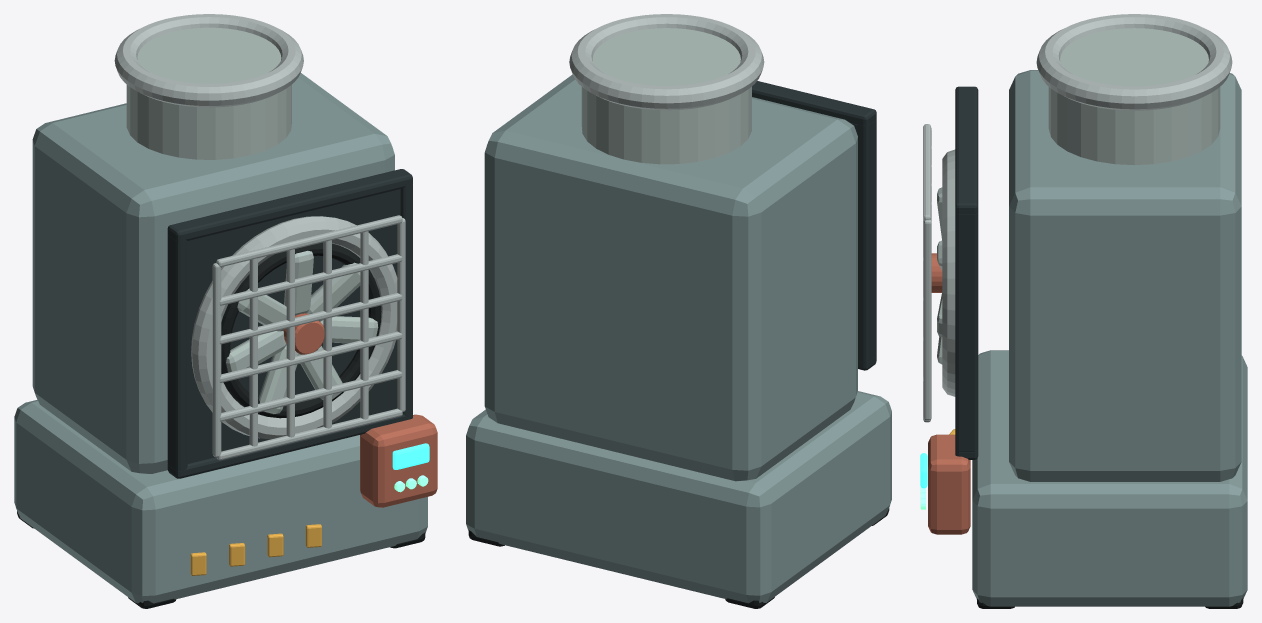
Rendered from Extracteur d urgence blindé.glb.
3 renders of one model, left to right at view 1: azimuth 30°, elevation 25°; view 2: azimuth 150°, elevation 25°; view 3: azimuth 270°, elevation 25°, orthographic. The views are drawn at different scales.
Parts seen in each view (by area): view 1: EXTRACTOR_Armored_Frame, EXTRACTOR_Base, EXTRACTOR_Exhaust_Stack, EXTRACTOR_Fan_Recess_Panel, EXTRACTOR_Internal_Fan_Outer_Ring, EXTRACTOR_Stack_Collar, EXTRACTOR_Control_Box, EXTRACTOR_Fan_Recess_Rail_Top, EXTRACTOR_Fan_Recess_Rail_Left, EXTRACTOR_Internal_Fan_Rubber_Seal, EXTRACTOR_Fan_Recess_Rail_Bottom, EXTRACTOR_Fan_Recess_Rail_Right (+21 smaller); view 2: EXTRACTOR_Armored_Frame, EXTRACTOR_Base, EXTRACTOR_Exhaust_Stack, EXTRACTOR_Stack_Collar, EXTRACTOR_Fan_Recess_Rail_Left, EXTRACTOR_Fan_Recess_Rail_Top; view 3: EXTRACTOR_Armored_Frame, EXTRACTOR_Base, EXTRACTOR_Exhaust_Stack, EXTRACTOR_Stack_Collar, EXTRACTOR_Fan_Recess_Rail_Right, EXTRACTOR_Control_Box, EXTRACTOR_Internal_Fan_Outer_Ring, EXTRACTOR_Fan_Recess_Rail_Top, EXTRACTOR_Guard_V_6, EXTRACTOR_Guard_H_6.
Boxes of the visible parts, x1=… form: EXTRACTOR_Armored_Frame: x1=32, y1=73, x2=394, y2=473; EXTRACTOR_Base: x1=14, y1=399, x2=427, y2=603; EXTRACTOR_Exhaust_Stack: x1=126, y1=27, x2=291, y2=159; EXTRACTOR_Fan_Recess_Panel: x1=187, y1=189, x2=400, y2=463; EXTRACTOR_Internal_Fan_Outer_Ring: x1=191, y1=216, x2=397, y2=439; EXTRACTOR_Stack_Collar: x1=114, y1=14, x2=303, y2=107; EXTRACTOR_Control_Box: x1=360, y1=414, x2=437, y2=507; EXTRACTOR_Fan_Recess_Rail_Top: x1=167, y1=169, x2=412, y2=241; EXTRACTOR_Fan_Recess_Rail_Left: x1=167, y1=234, x2=187, y2=470; EXTRACTOR_Internal_Fan_Rubber_Seal: x1=221, y1=242, x2=381, y2=418; EXTRACTOR_Fan_Recess_Rail_Bottom: x1=167, y1=414, x2=412, y2=478; EXTRACTOR_Fan_Recess_Rail_Right: x1=400, y1=184, x2=412, y2=415; EXTRACTOR_Armored_Frame: x1=484, y1=74, x2=857, y2=481; EXTRACTOR_Base: x1=466, y1=391, x2=891, y2=603; EXTRACTOR_Exhaust_Stack: x1=581, y1=28, x2=751, y2=164; EXTRACTOR_Stack_Collar: x1=569, y1=14, x2=764, y2=110; EXTRACTOR_Fan_Recess_Rail_Left: x1=857, y1=118, x2=876, y2=362; EXTRACTOR_Fan_Recess_Rail_Top: x1=752, y1=81, x2=876, y2=125; EXTRACTOR_Armored_Frame: x1=1009, y1=70, x2=1241, y2=481; EXTRACTOR_Base: x1=972, y1=350, x2=1247, y2=606; EXTRACTOR_Exhaust_Stack: x1=1048, y1=28, x2=1220, y2=165; EXTRACTOR_Stack_Collar: x1=1036, y1=14, x2=1232, y2=110; EXTRACTOR_Fan_Recess_Rail_Right: x1=955, y1=213, x2=978, y2=451; EXTRACTOR_Control_Box: x1=928, y1=434, x2=970, y2=534; EXTRACTOR_Internal_Fan_Outer_Ring: x1=942, y1=149, x2=955, y2=396; EXTRACTOR_Fan_Recess_Rail_Top: x1=955, y1=86, x2=978, y2=213; EXTRACTOR_Guard_V_6: x1=924, y1=220, x2=931, y2=420; EXTRACTOR_Guard_H_6: x1=923, y1=124, x2=930, y2=220.
Bounding box in the file's own units: 1.15 × 1.76 × 1.07.
